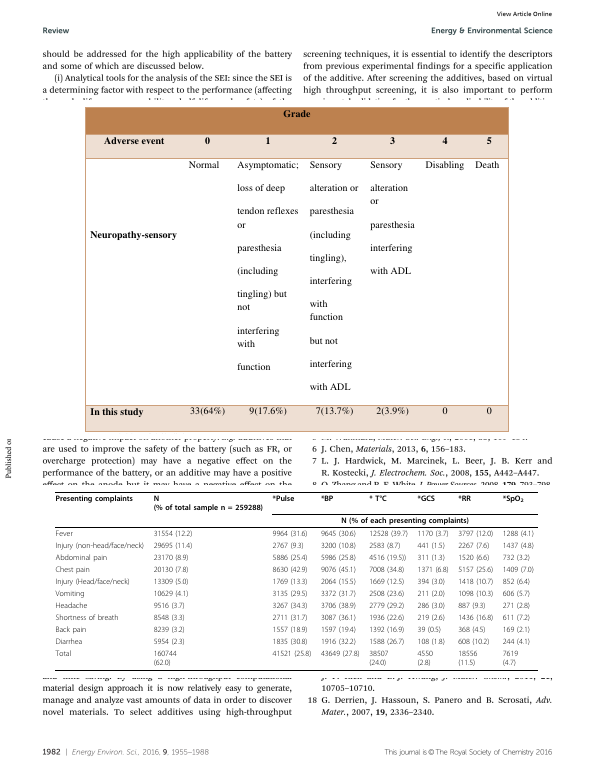bordered: (84, 106, 508, 431)
borderless: (54, 490, 538, 670)
cell: (236, 158, 300, 373), (309, 158, 359, 393), (369, 158, 416, 277), (153, 494, 264, 512), (340, 516, 470, 526), (89, 227, 178, 241), (55, 541, 145, 551), (103, 133, 165, 147), (55, 577, 131, 587), (89, 404, 145, 417), (55, 494, 134, 503), (55, 613, 119, 623), (55, 553, 108, 563), (425, 158, 465, 171), (248, 404, 288, 417), (315, 404, 354, 417), (189, 404, 226, 417), (375, 404, 410, 417), (153, 649, 177, 667), (188, 158, 220, 171), (368, 529, 409, 539), (282, 106, 311, 120), (153, 529, 193, 539), (153, 541, 193, 551), (368, 553, 407, 563), (368, 649, 389, 667), (457, 649, 478, 667), (320, 529, 357, 539), (457, 529, 494, 539), (320, 541, 357, 551), (320, 553, 357, 563), (320, 565, 357, 575), (368, 565, 405, 575), (457, 565, 494, 575), (320, 577, 357, 587), (368, 577, 405, 587), (457, 577, 494, 587), (320, 589, 357, 599), (368, 589, 405, 599), (457, 589, 494, 599), (320, 601, 357, 611), (368, 601, 405, 611), (320, 613, 357, 623), (368, 613, 405, 623), (457, 613, 494, 623), (272, 529, 308, 539), (153, 553, 189, 563), (272, 553, 308, 563), (55, 565, 91, 575), (153, 565, 189, 575), (272, 565, 308, 575), (153, 577, 189, 587), (272, 577, 308, 587), (153, 589, 189, 599), (272, 589, 308, 599), (272, 601, 308, 611), (272, 613, 308, 623), (272, 649, 312, 658), (320, 649, 360, 658), (474, 158, 500, 171), (320, 625, 357, 634), (368, 625, 405, 634), (320, 637, 357, 646), (368, 637, 405, 646), (416, 529, 449, 539), (502, 529, 535, 539), (272, 541, 305, 551), (368, 541, 401, 551), (457, 541, 490, 551), (502, 541, 535, 551), (457, 553, 490, 563), (416, 565, 449, 575), (502, 565, 535, 575), (55, 601, 88, 611), (153, 601, 186, 611), (153, 613, 186, 623), (272, 625, 308, 634), (272, 637, 308, 646), (416, 649, 434, 667), (502, 649, 519, 667), (416, 541, 446, 551), (416, 553, 446, 563), (416, 577, 446, 587), (55, 589, 85, 599), (416, 589, 446, 599), (416, 601, 446, 611), (416, 613, 446, 623), (153, 625, 186, 634), (153, 637, 186, 646), (457, 637, 490, 646), (502, 553, 531, 563), (502, 577, 531, 587), (502, 589, 531, 599), (457, 601, 486, 611), (502, 601, 531, 611), (502, 613, 531, 623), (55, 625, 87, 634), (416, 637, 446, 646), (457, 625, 486, 634), (502, 625, 531, 634), (502, 637, 531, 646), (55, 637, 83, 646), (416, 625, 442, 634), (502, 494, 525, 504), (272, 494, 295, 503), (55, 529, 74, 539), (368, 494, 388, 503), (416, 494, 436, 503), (55, 649, 72, 658), (457, 494, 472, 503), (320, 494, 334, 503), (204, 133, 211, 147), (265, 133, 272, 147), (331, 133, 338, 147), (389, 133, 396, 147), (441, 133, 448, 147), (486, 133, 493, 147), (441, 404, 448, 417), (486, 404, 493, 417)
